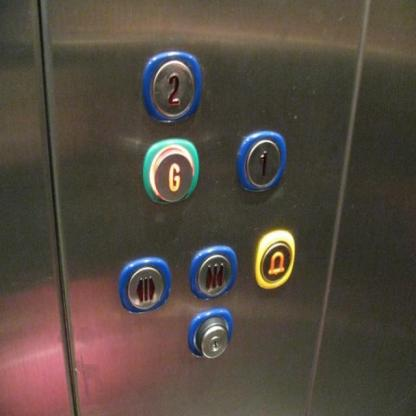1: (237, 130, 286, 197)
2: (140, 48, 202, 125)
G: (141, 136, 200, 206)
alarm: (255, 227, 296, 291)
close: (190, 245, 238, 298)
keyhole: (185, 306, 235, 362)
open: (117, 256, 171, 314)
